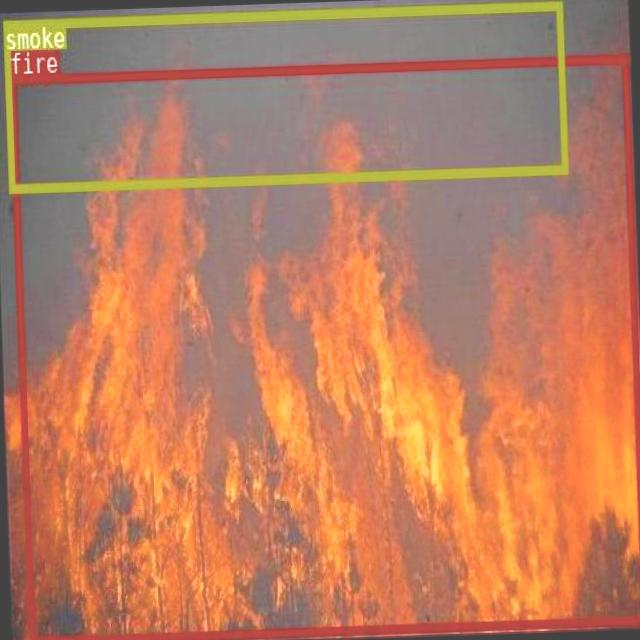fire: (7, 52, 640, 640)
smoke: (1, 1, 567, 190)
